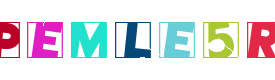5: (130, 0, 210, 80)
E: (48, 0, 128, 80), (125, 0, 205, 80)
L: (97, 0, 177, 80)
M: (93, 0, 173, 80)
P: (11, 0, 91, 80)
R: (180, 0, 260, 80)
